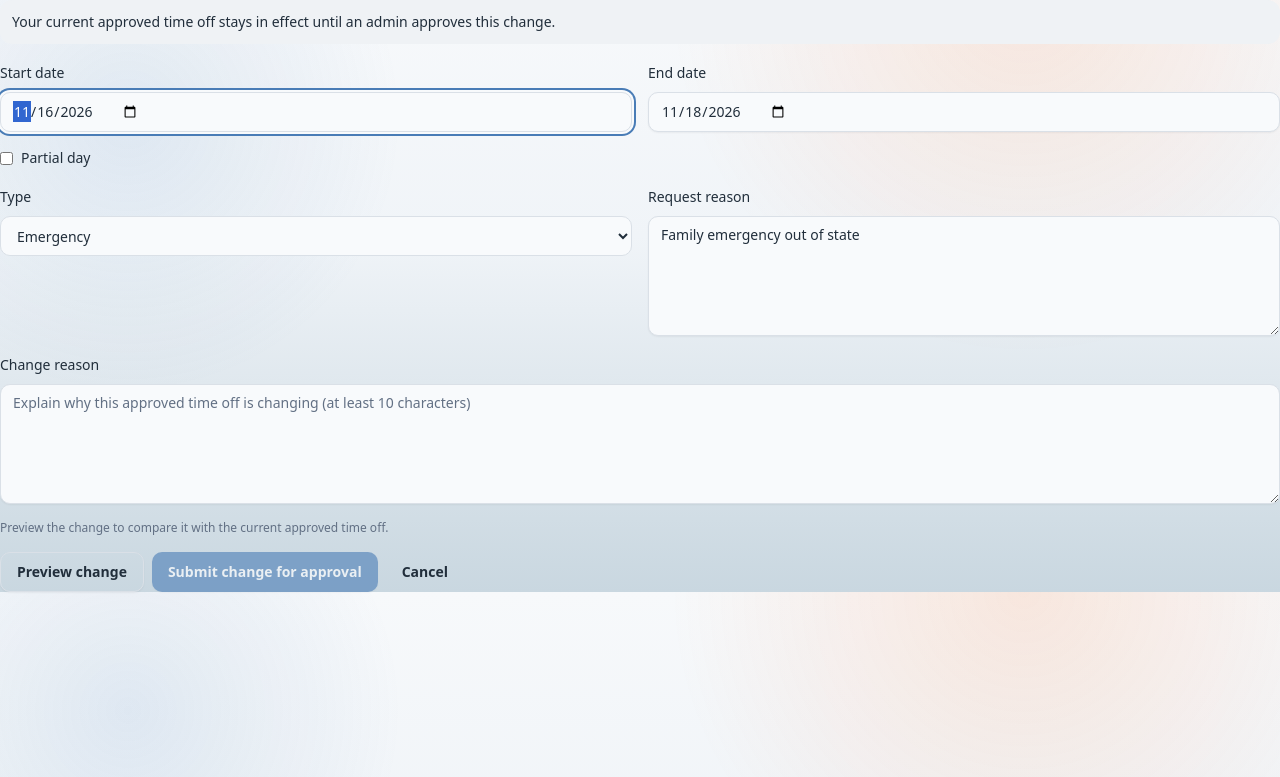
it: TimeOffChangeEditor › invalidates the preview when any field changes
Type "2026-11-19" into the date field labelled "End date" at (964, 112), box [648,92,1279,132]
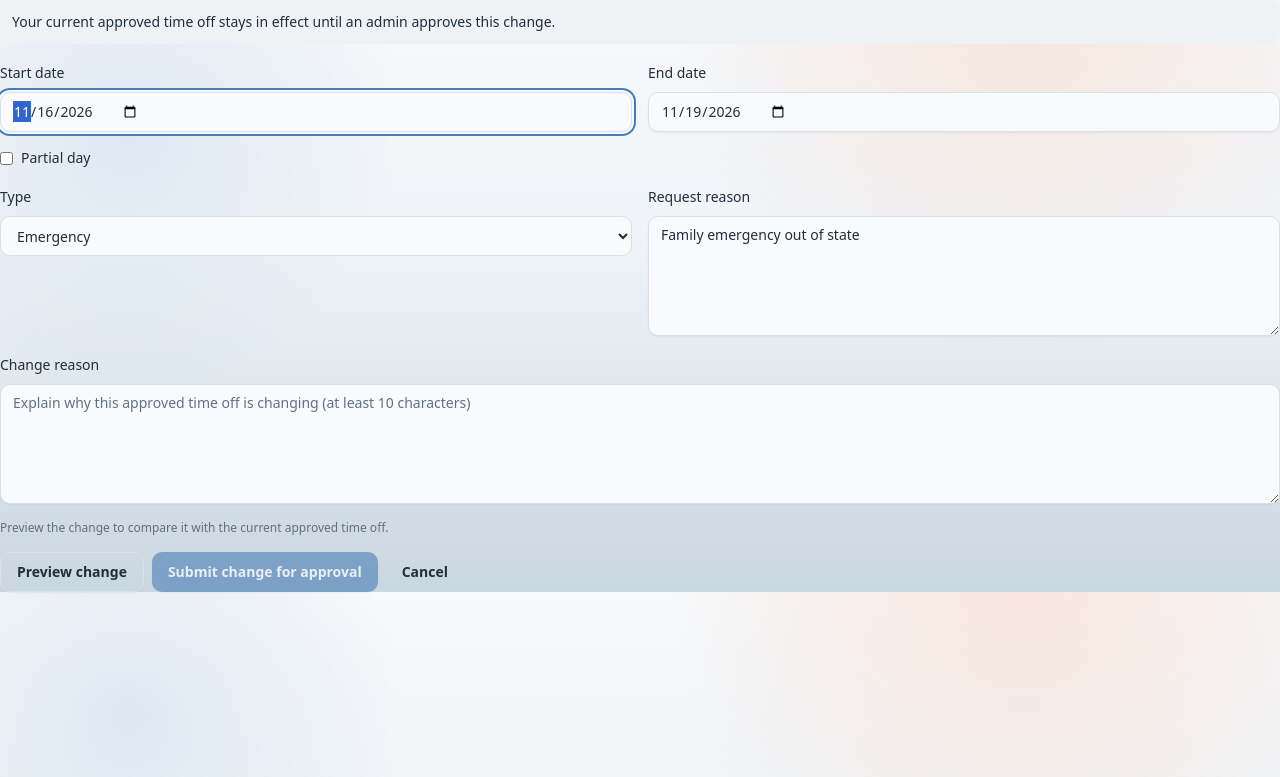
Click the button "Preview change" at (72, 572), box [0,552,144,592]
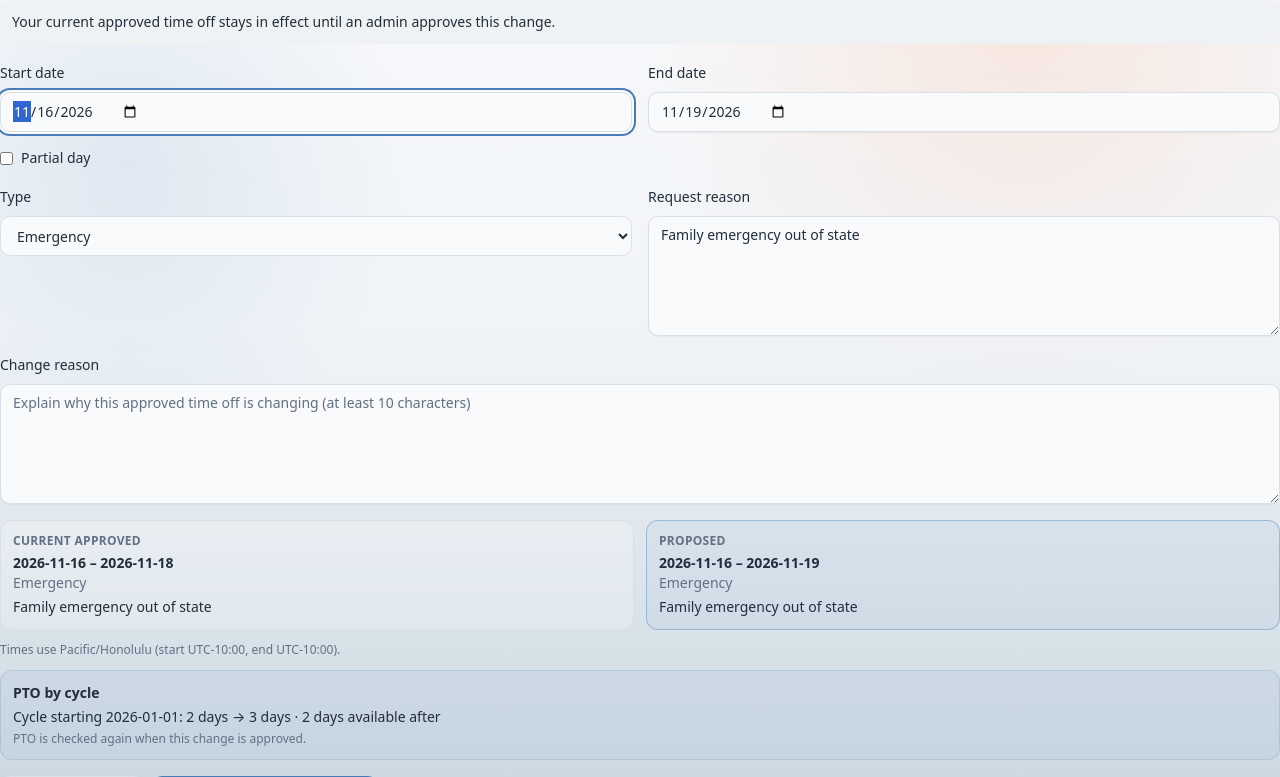
Check: the heading "Proposed" is shown, box [659,532,726,549]
Replace the text in the text box labelled "Change reason" with "My flight moved by a day" at (640, 444), box [0,384,1279,504]
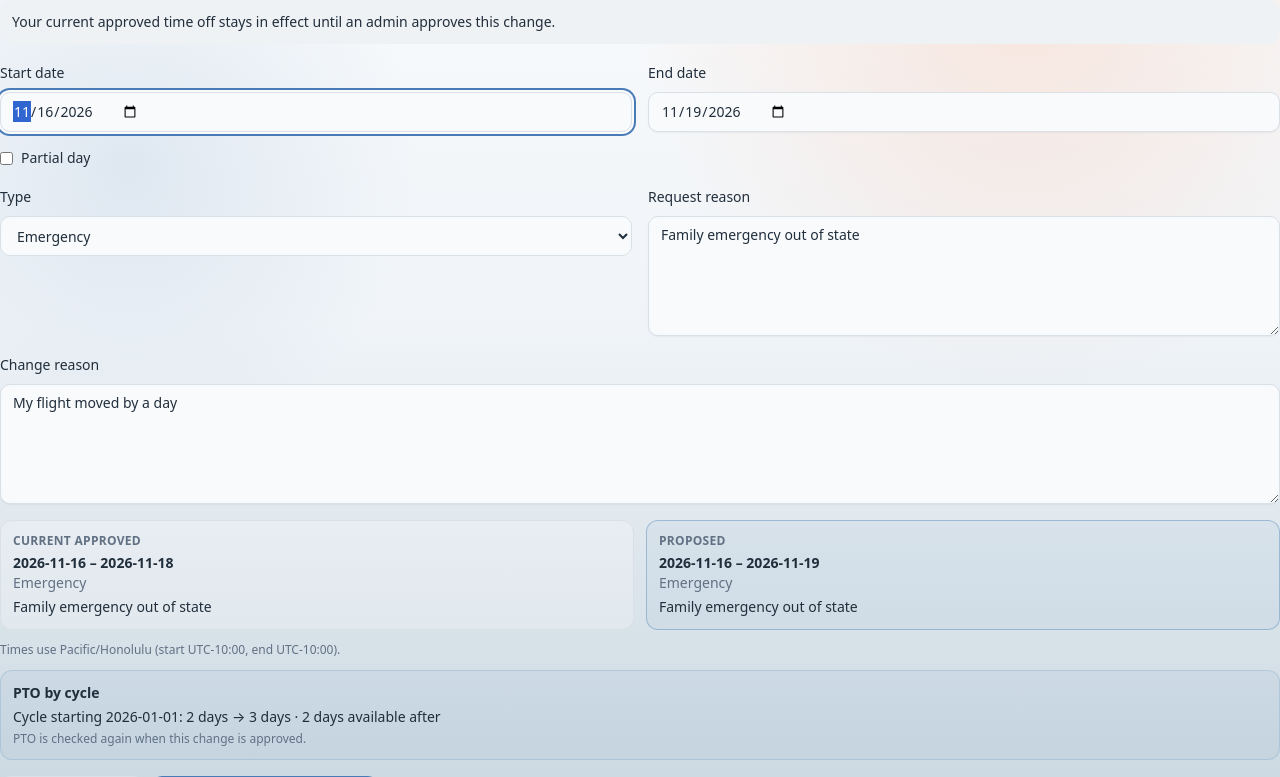
Replace the text in the text box labelled "Request reason" with "Family emergency, extended stay" at (964, 276), box [648,216,1279,336]
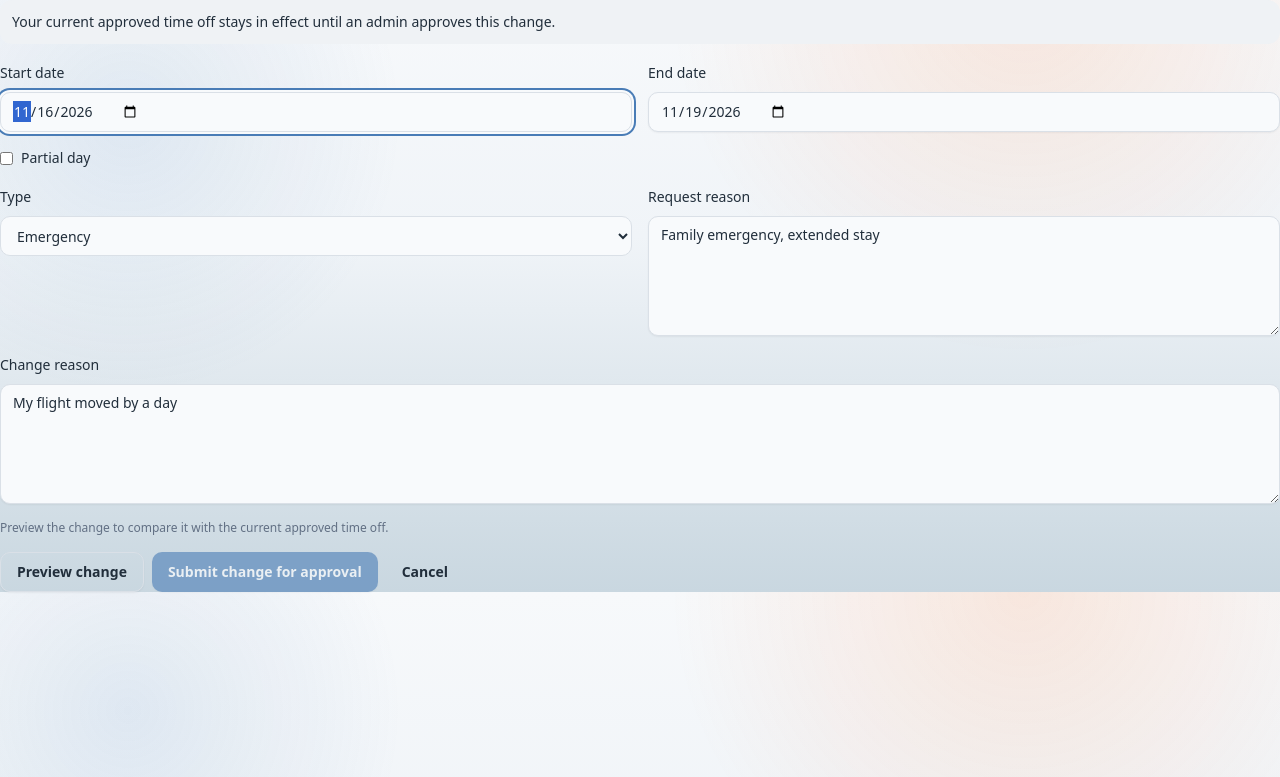
Check: the heading "Proposed" is gone
Check: the button "Submit change for approval" is disabled, box [152,552,378,592]
